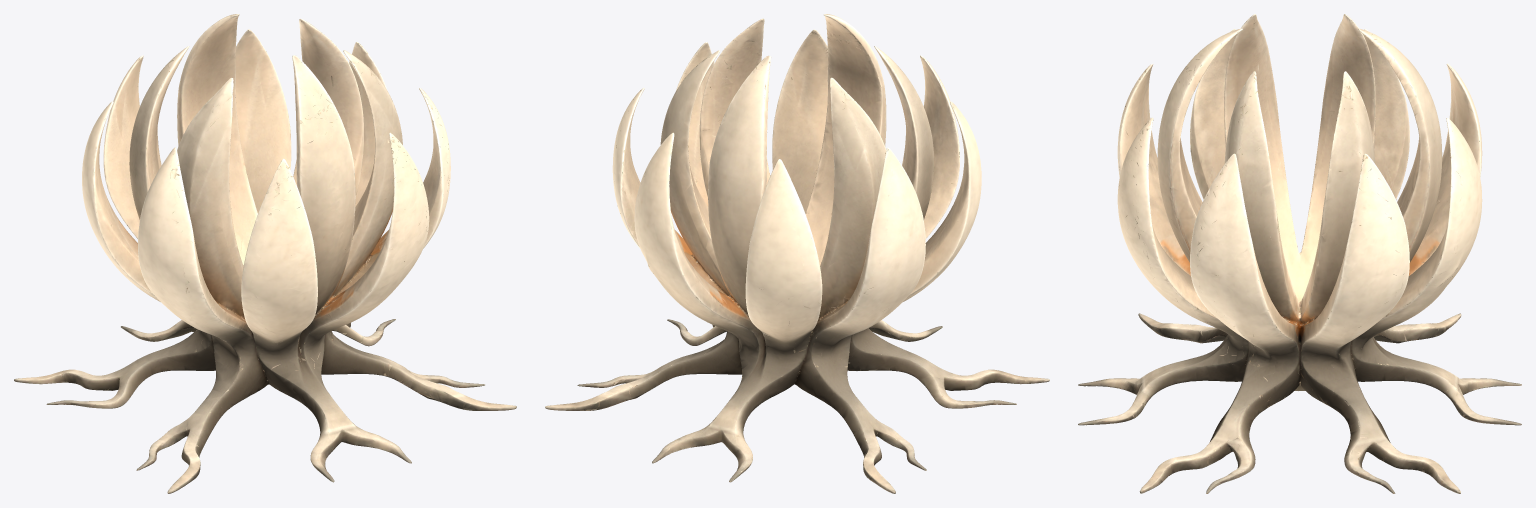
File: closing-scroll-sculpture.glb
3 renders of one model, left to right at view 1: azimuth 30°, elevation 25°; view 2: azimuth 150°, elevation 25°; view 3: azimuth 270°, elevation 25°, orthographic. The views are drawn at different scales.
Parts seen in each view (by area): view 1: Mesh_0; view 2: Mesh_0; view 3: Mesh_0.
Boxes of the visible parts, bbox=[...] form: Mesh_0: bbox=[14, 14, 516, 493]; Mesh_0: bbox=[545, 14, 1049, 493]; Mesh_0: bbox=[1078, 14, 1521, 493].
Bounding box in the file's own units: 1.81 × 1.78 × 1.9.
1 material, 1 textured.
